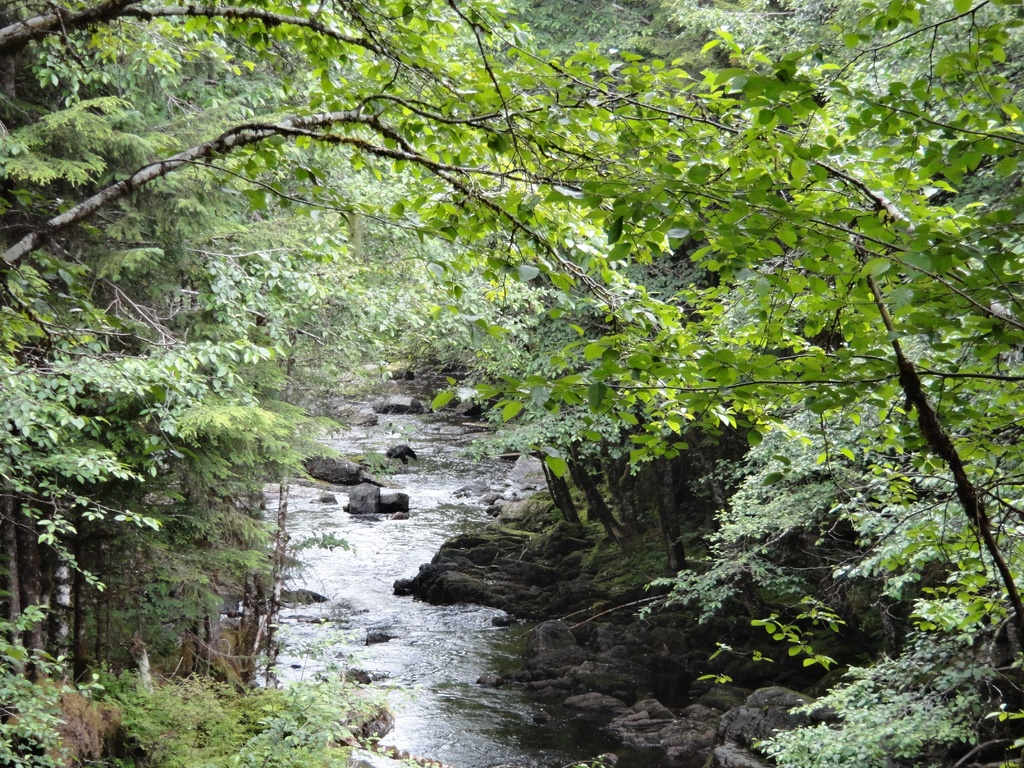Tree: (11, 0, 1018, 661)
